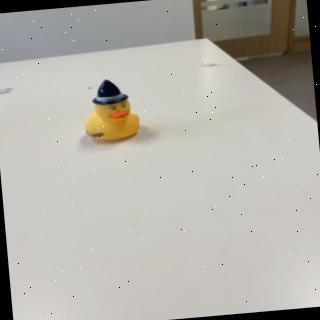duck_specialty: (80, 76, 145, 145)
